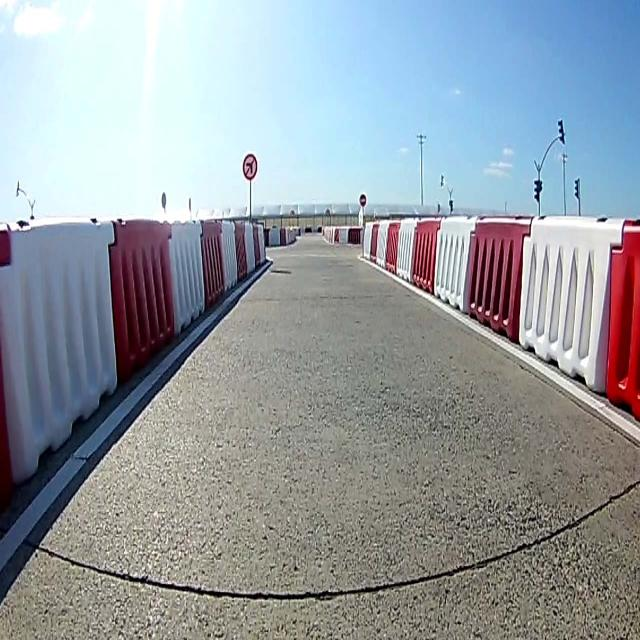girisyok: (359, 194, 367, 207)
soladonulmez: (242, 151, 258, 181)
